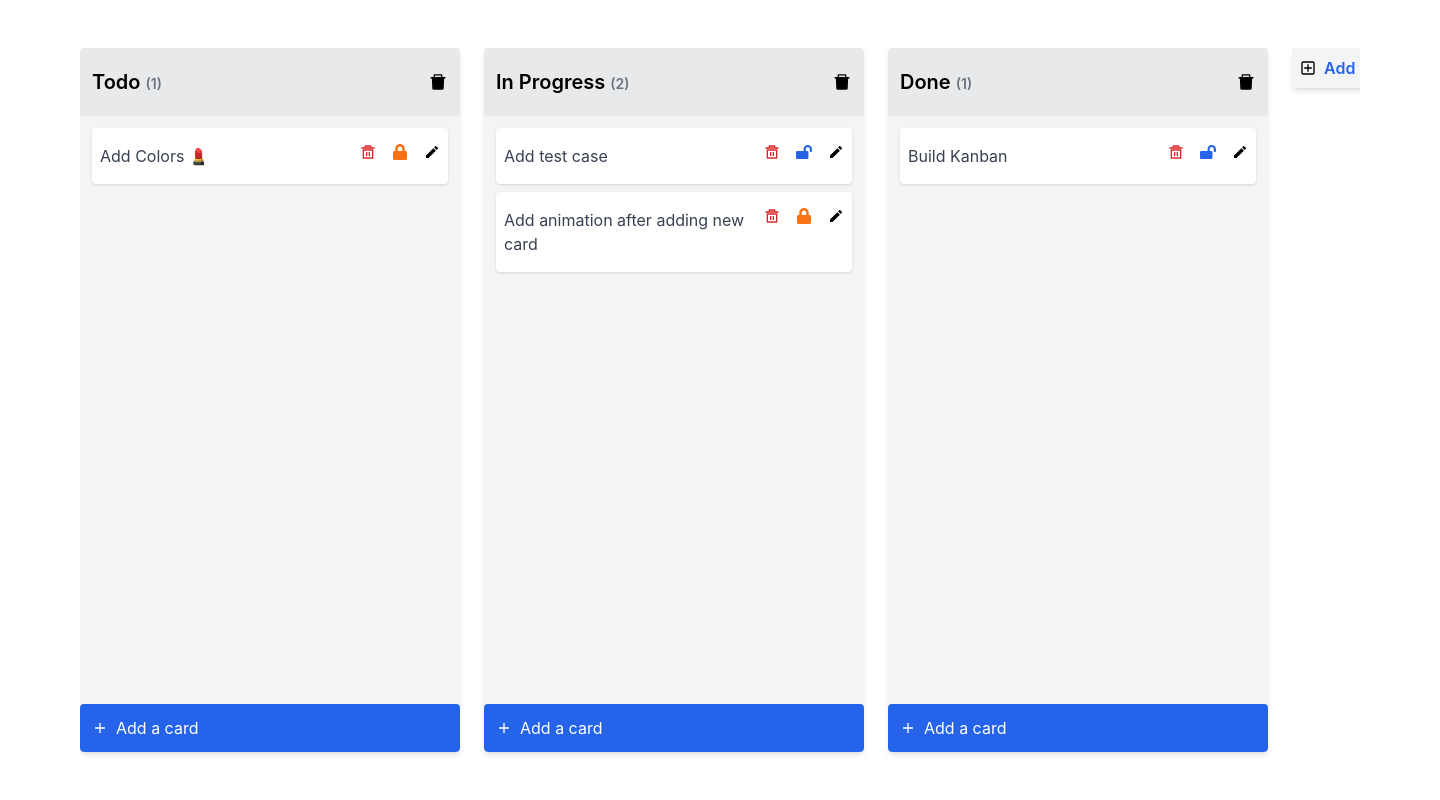
Test case: Kanban › Task › drag and drop › should unlock the first task and make it dragable
Click the 1st icon with test id "card-unlock-button" at {"x": 400, "y": 152}, box [392,144,408,160]
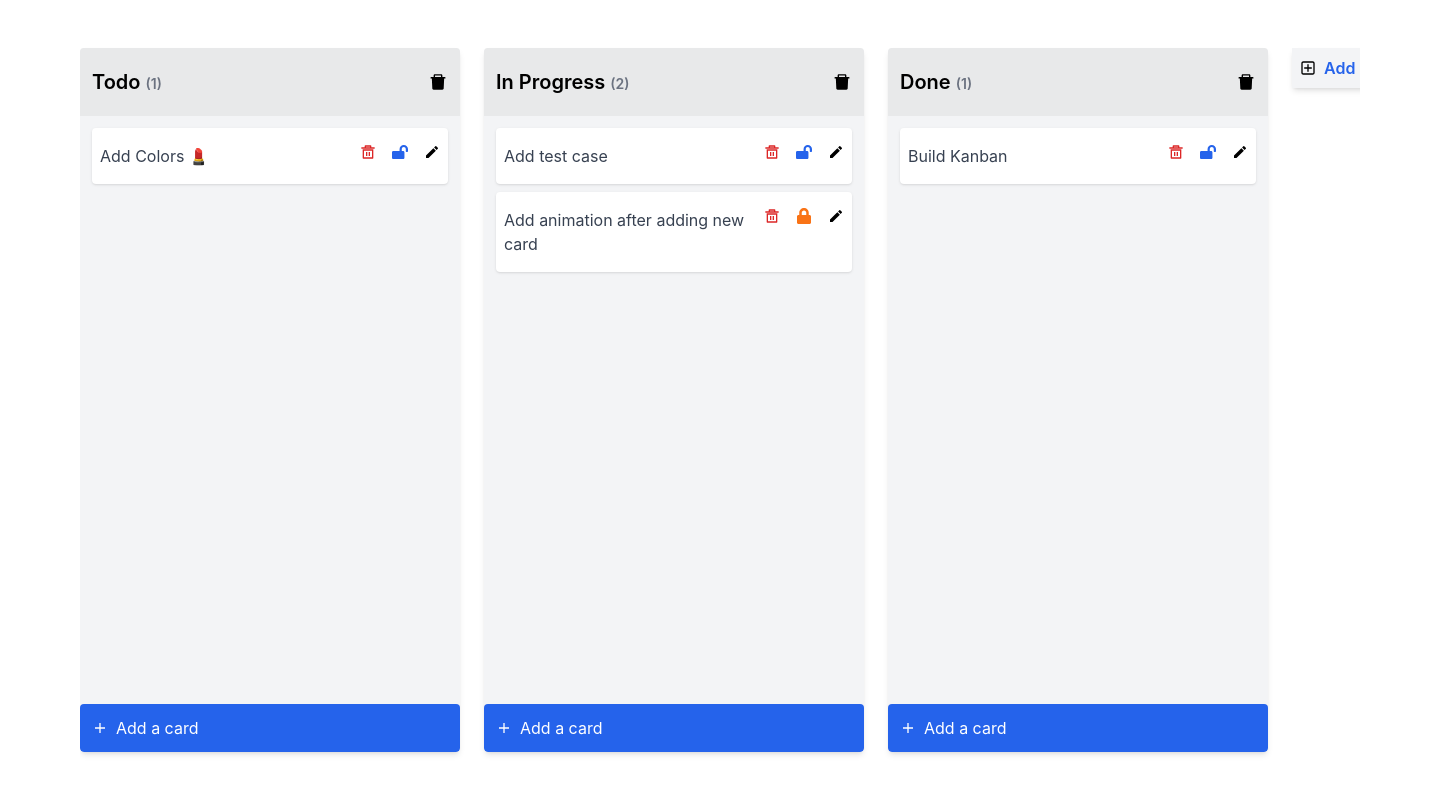
Expected: the 1st icon with test id "card-lock-button" is shown, [392,144,408,160]
